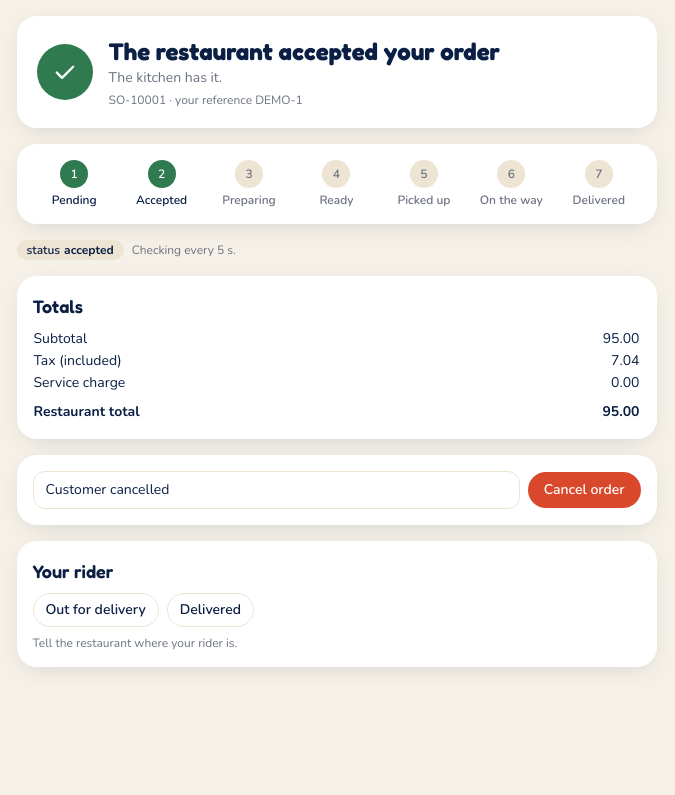
Test: OrderPage › explains a 409 cannot_cancel and reloads the order
Expected: the text "accepted" is shown, x1=64 y1=242 x2=114 y2=258
Click the button "Cancel order" at (584, 490), box x1=528 y1=472 x2=640 y2=508
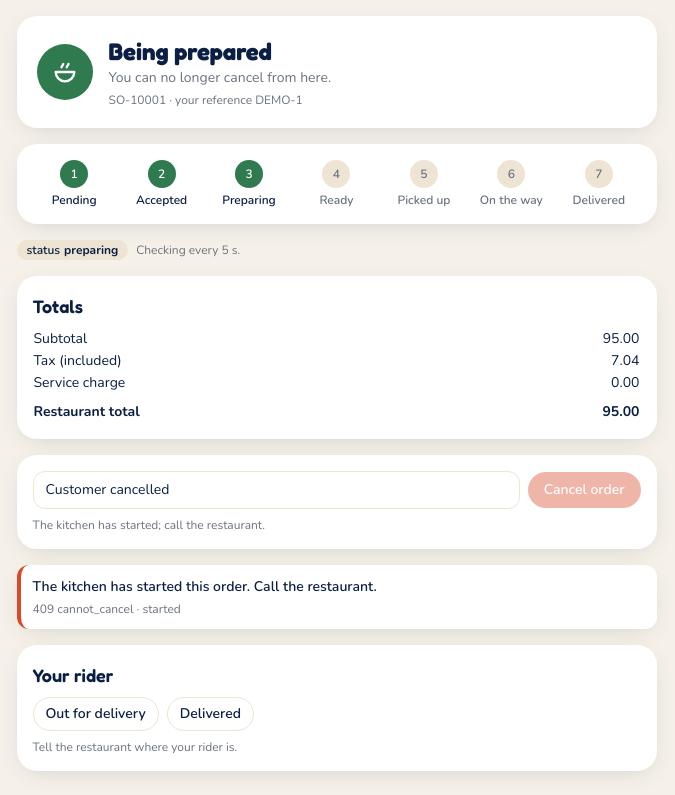
Expected: the message shows "kitchen has started", x1=32 y1=577 x2=377 y2=596
Expected: the text with test id "order-status" reads "preparing", x1=64 y1=242 x2=118 y2=258
